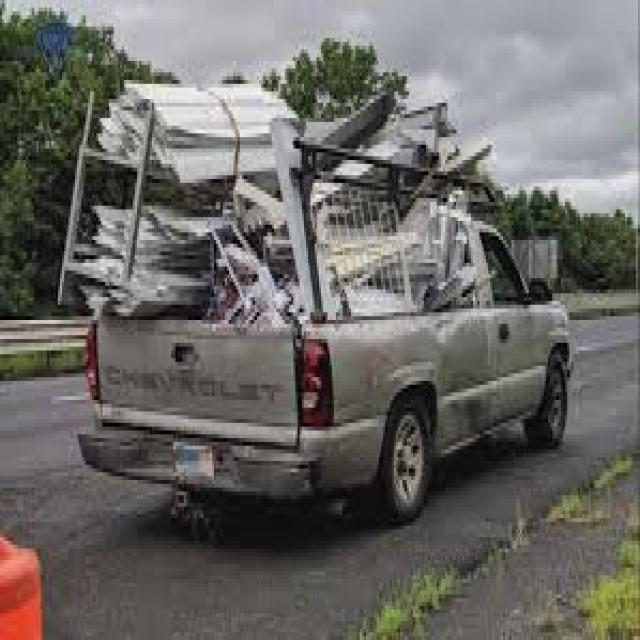uncovered: (64, 72, 576, 508)
